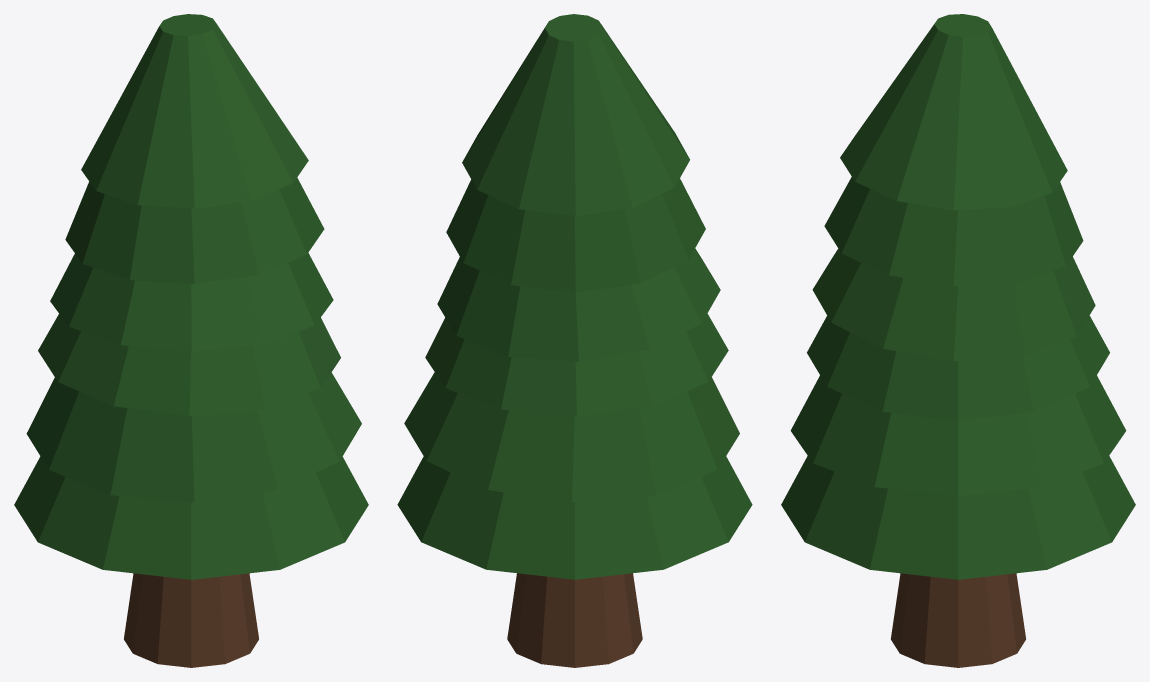
The model's file is tree.glb.
The picture shows the model from 3 angles, left to right: view 1: azimuth 30°, elevation 25°; view 2: azimuth 150°, elevation 25°; view 3: azimuth 270°, elevation 25°; orthographic projection.
Parts seen in each view (by area): view 1: Cylinder; view 2: Cylinder; view 3: Cylinder.
Part boxes in pixels (box(x1,y1,x2,y2)): Cylinder: box(14, 14, 368, 667); Cylinder: box(397, 14, 752, 667); Cylinder: box(781, 14, 1135, 667).
Size of the model in its own units: 2.65 by 5.07 by 2.65.
